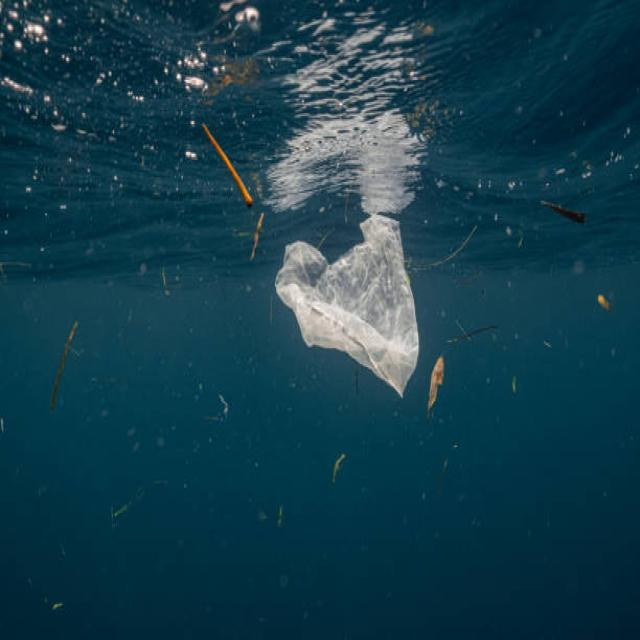garbage: (275, 237, 428, 395), (198, 98, 260, 222)
